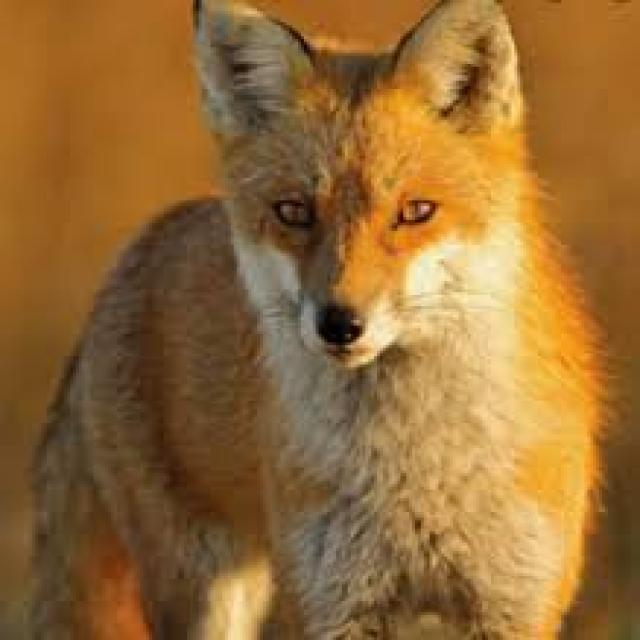fox: (21, 0, 616, 637)
